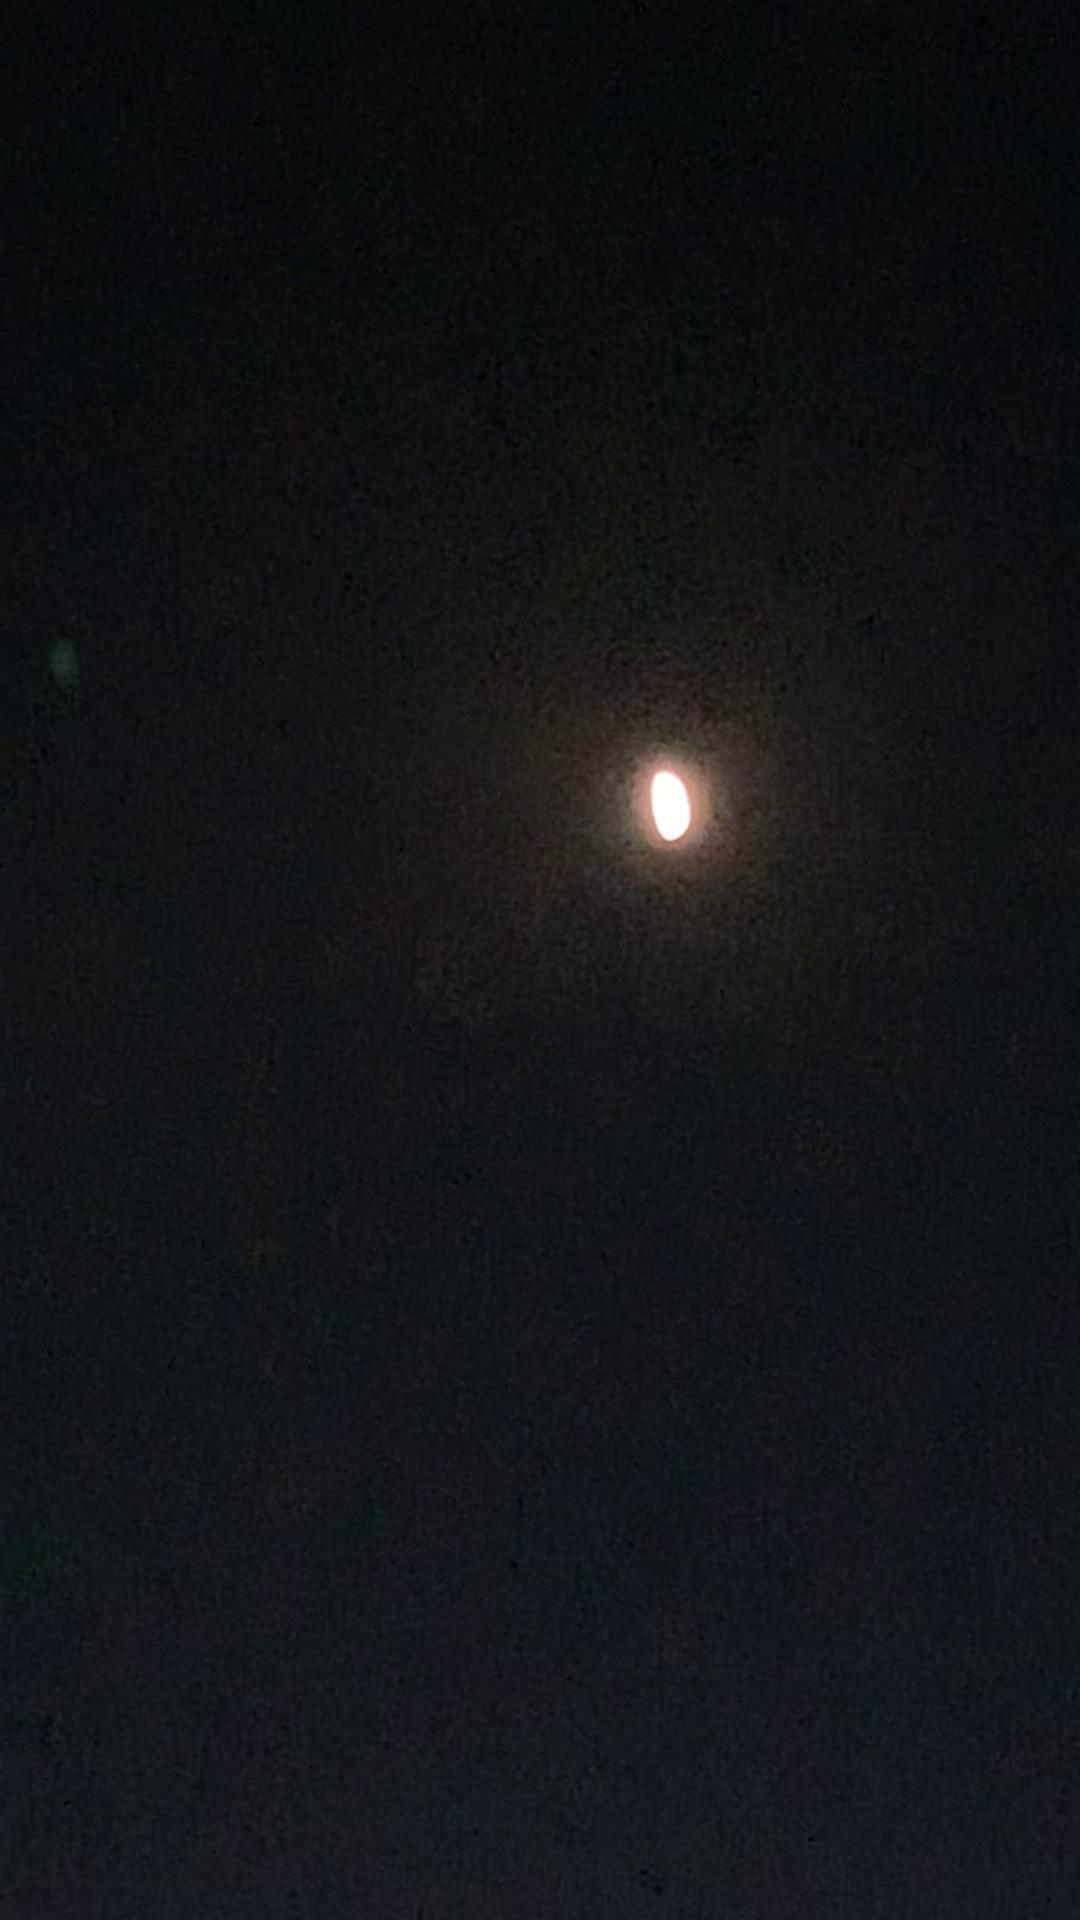moon: (630, 754, 720, 836)
